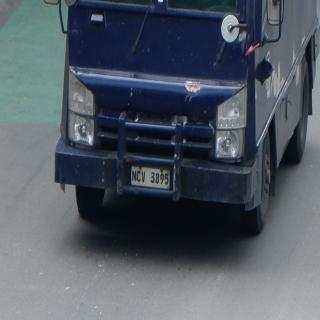license: (132, 167, 171, 190)
